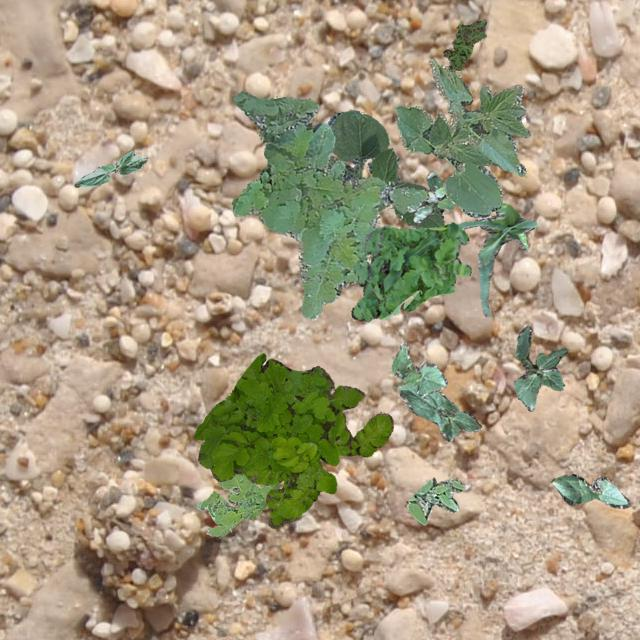crop: (394, 57, 530, 216), (326, 109, 444, 228), (456, 200, 536, 316), (396, 382, 480, 440), (512, 324, 566, 410), (391, 342, 446, 396), (550, 472, 630, 508), (72, 150, 146, 186)
weed: (230, 90, 422, 318), (192, 352, 392, 528), (350, 222, 470, 321), (195, 472, 278, 536), (398, 170, 454, 222), (406, 476, 464, 524), (442, 20, 486, 70)
